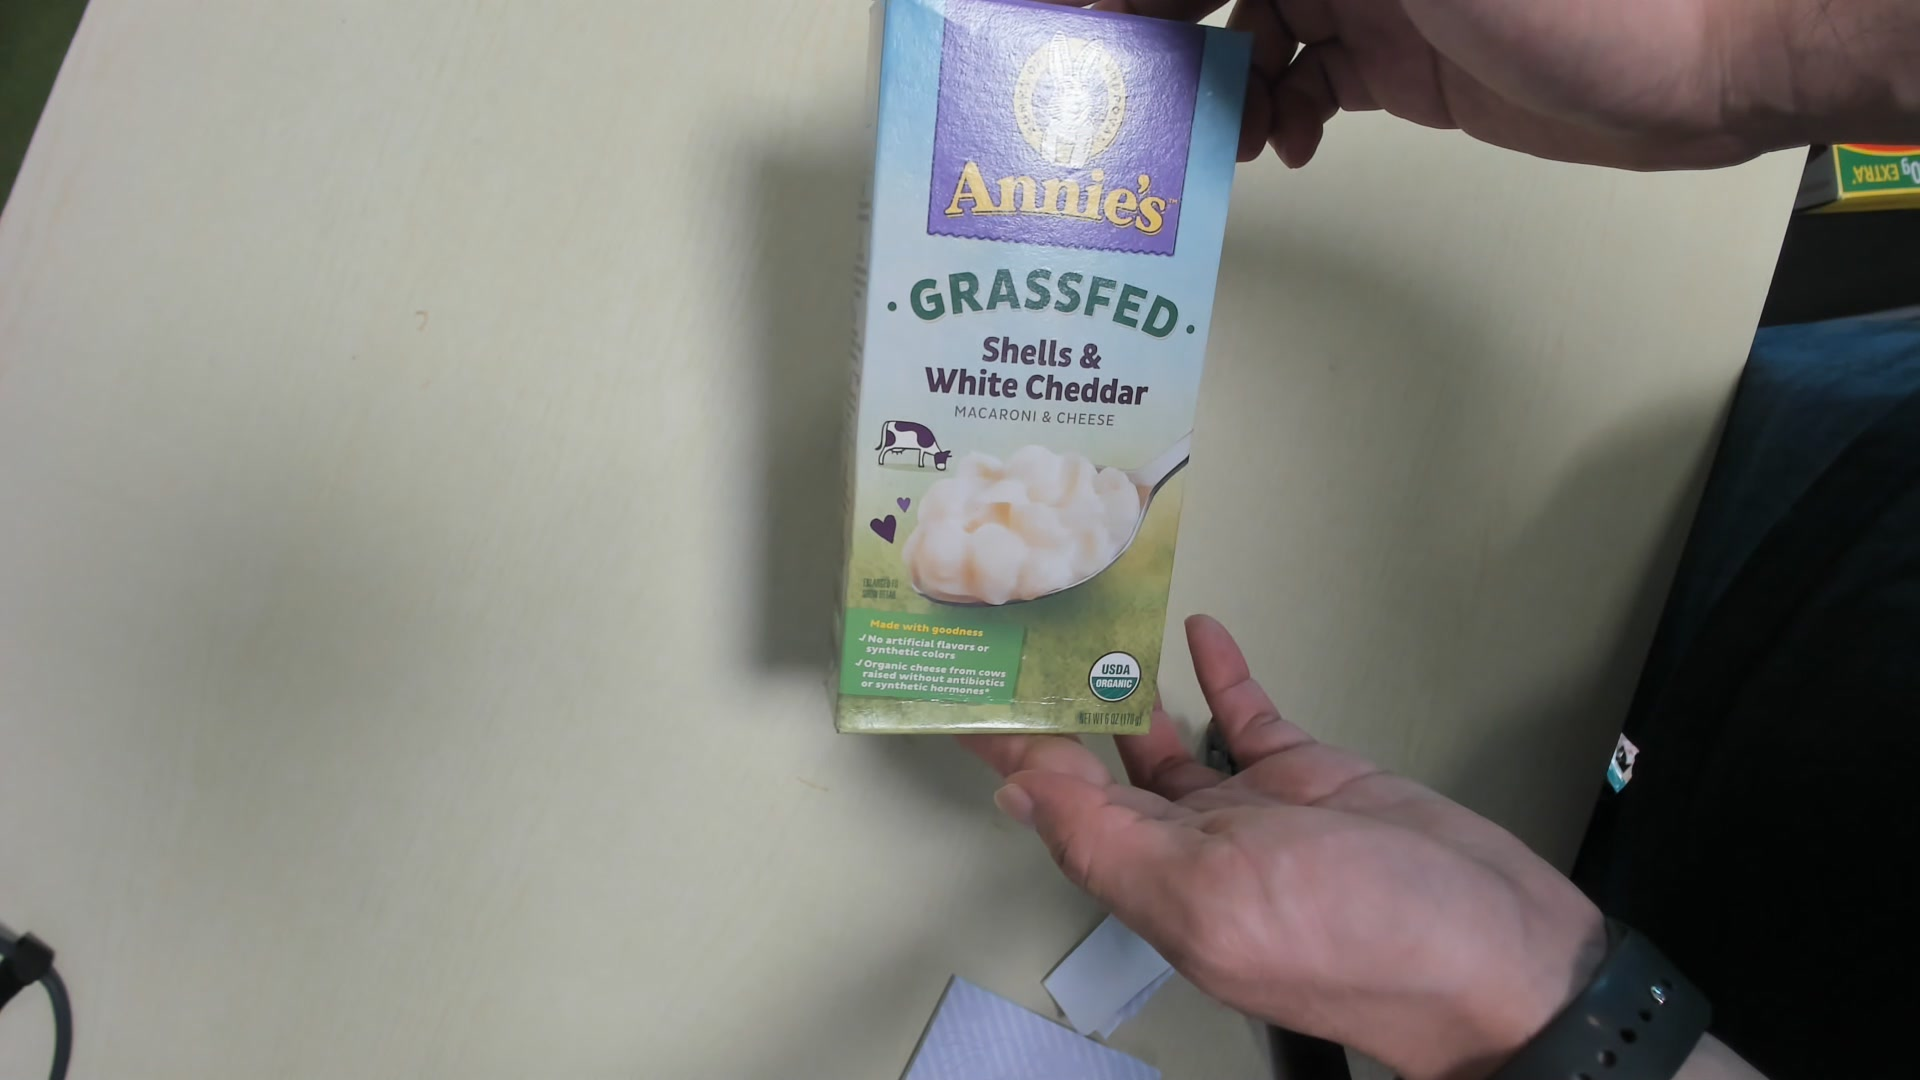InstantMeals_100_199g_NonHalal_NonHealthy: (829, 5, 1250, 754)
